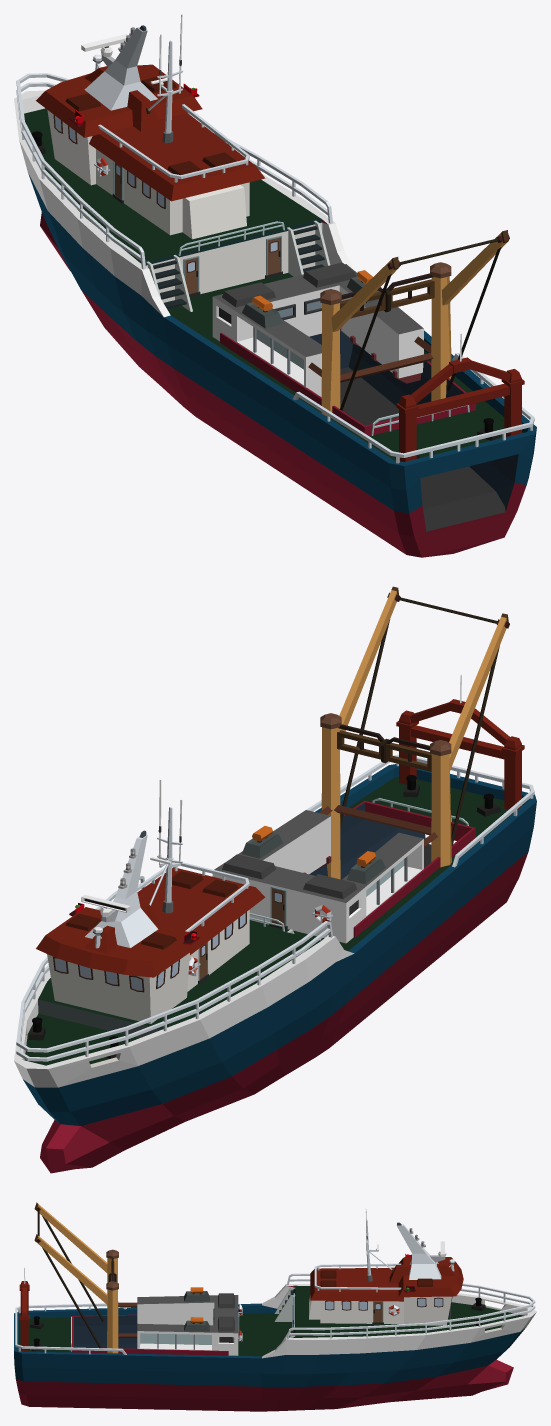
File: trawler.glb
3 views of the same model, one above another, from view 1: azimuth 30°, elevation 25°; view 2: azimuth 150°, elevation 25°; view 3: azimuth 270°, elevation 25° (orthographic). The views are drawn at different scales.
Visible parts, largest first — view 1: Trawler_Colour Palette_0; view 2: Trawler_Colour Palette_0; view 3: Trawler_Colour Palette_0.
Part boxes in pixels (bbox=[...]): Trawler_Colour Palette_0: bbox=[14, 14, 536, 557]; Trawler_Colour Palette_0: bbox=[14, 586, 536, 1173]; Trawler_Colour Palette_0: bbox=[14, 1202, 536, 1411].
Size of the model in its own units: 4.07 by 6.57 by 16.
Materials: 1 (1 with a texture image).
